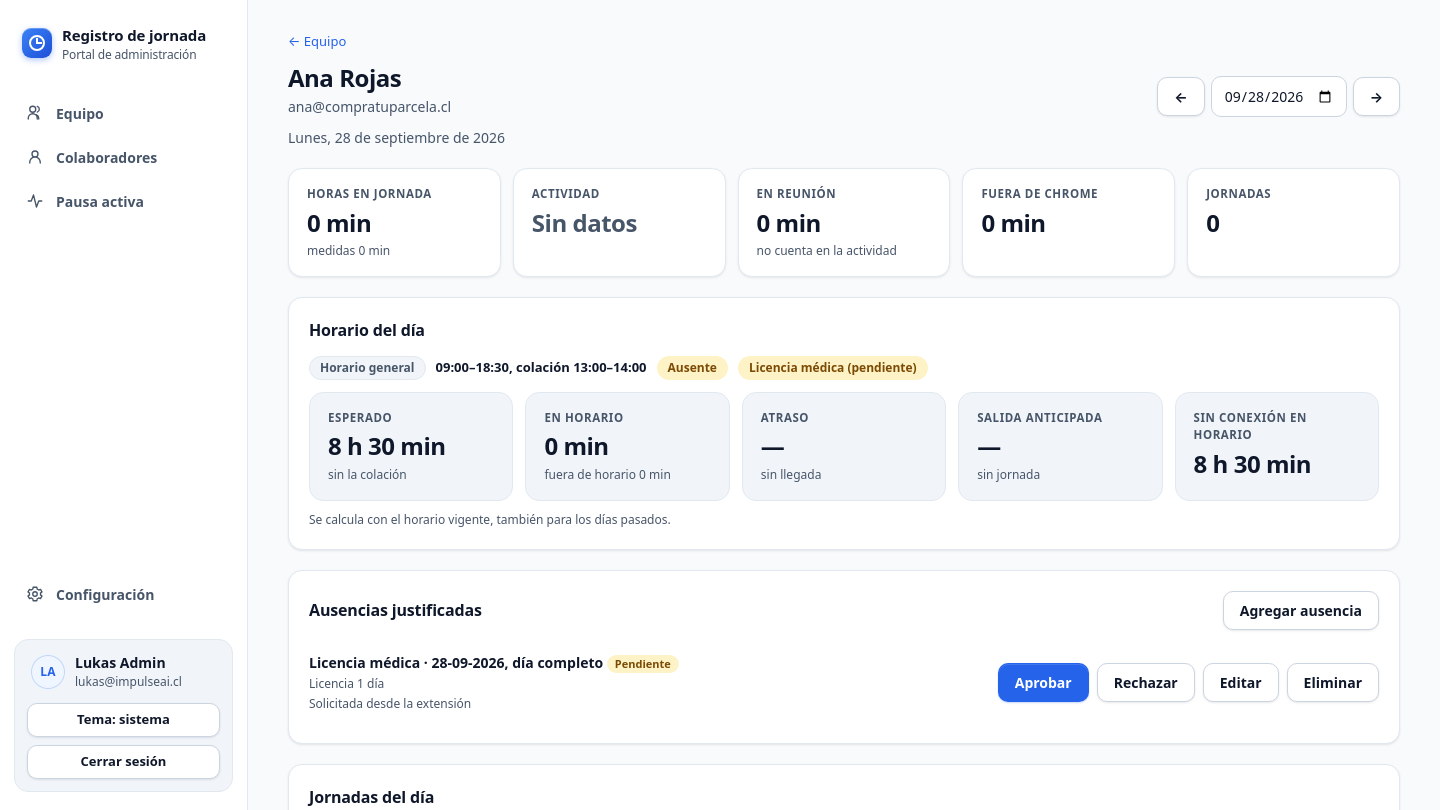
Test case: Solicitudes desde la extensión › the collaborator page shows the status and can reject
Expected: the list with test id "absence-list" shows "Pendiente", [615,656,671,671]
Expected: the list with test id "absence-list" shows "Solicitada desde la extensión", [309,696,471,712]
Click the button "Rechazar" at (1146, 683), box [1097,663,1195,702]
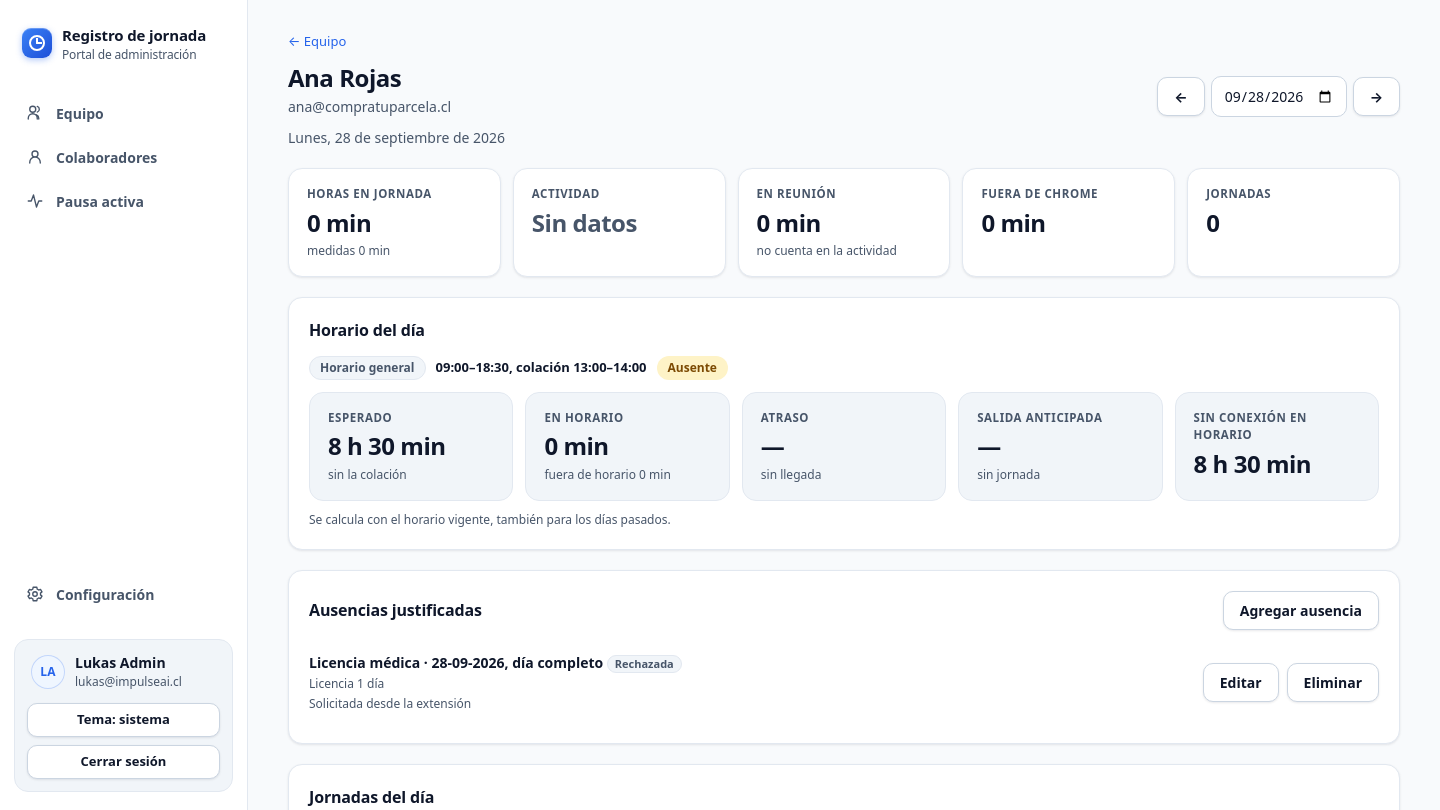
Now the text "Rechazada" is shown, box [607,655,682,674]
